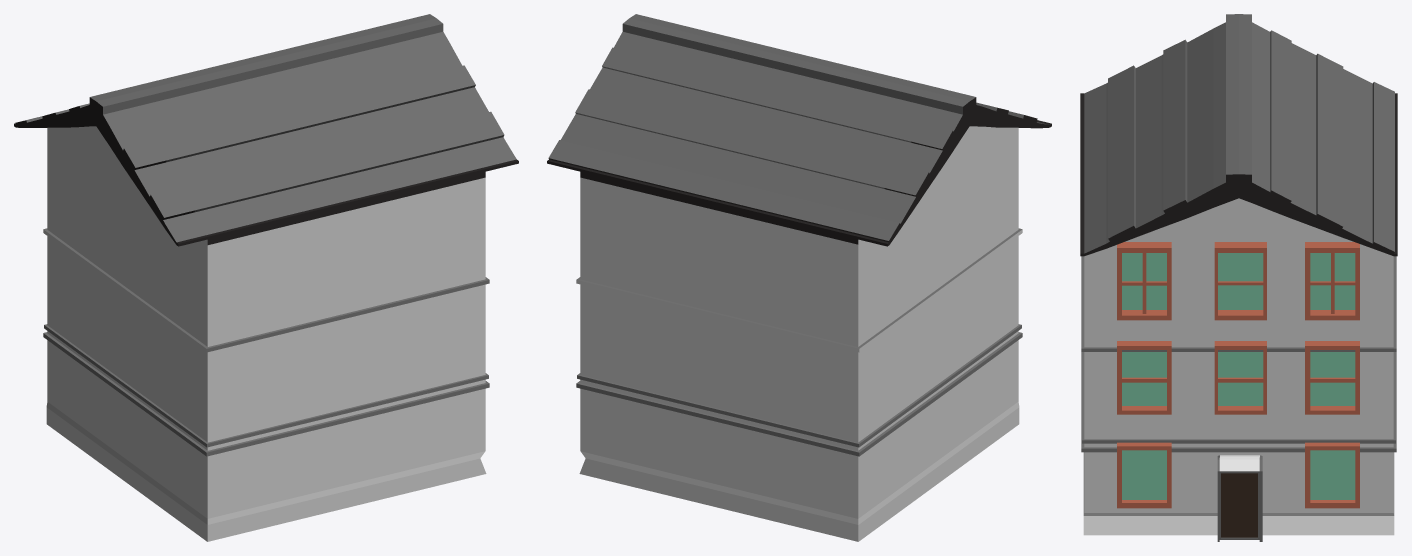
File: House 3.fbx
3 renders of one model, left to right at view 1: azimuth 30°, elevation 25°; view 2: azimuth 150°, elevation 25°; view 3: azimuth 270°, elevation 25°, orthographic. The views are drawn at different scales.
Visible parts, largest first — view 1: Cube.317; view 2: Cube.317; view 3: Cube.317, Cube.318, Cube.320.
Boxes of the visible parts, <box> form: Cube.317: <box>14,14,518,541</box>; Cube.317: <box>547,14,1051,541</box>; Cube.317: <box>1080,14,1397,535</box>; Cube.318: <box>1117,242,1359,508</box>; Cube.320: <box>1217,455,1262,541</box>.
Bounding box in the file's own units: 203 × 224 × 170.
